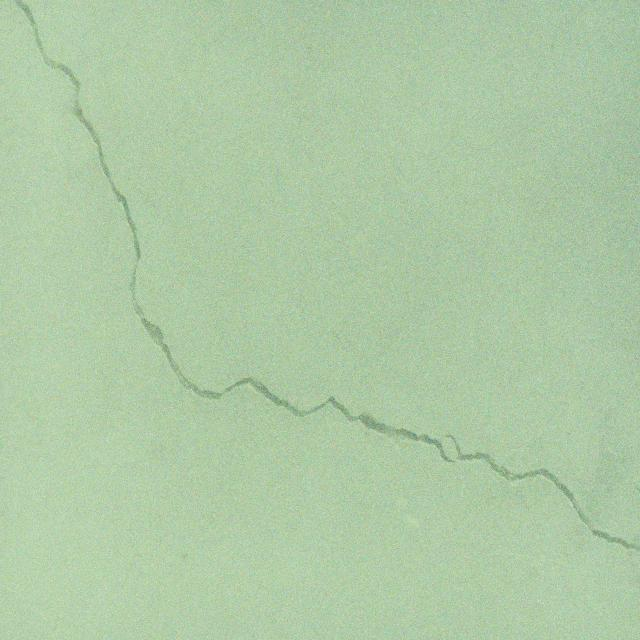crack: (13, 0, 640, 552), (620, 469, 640, 492)
